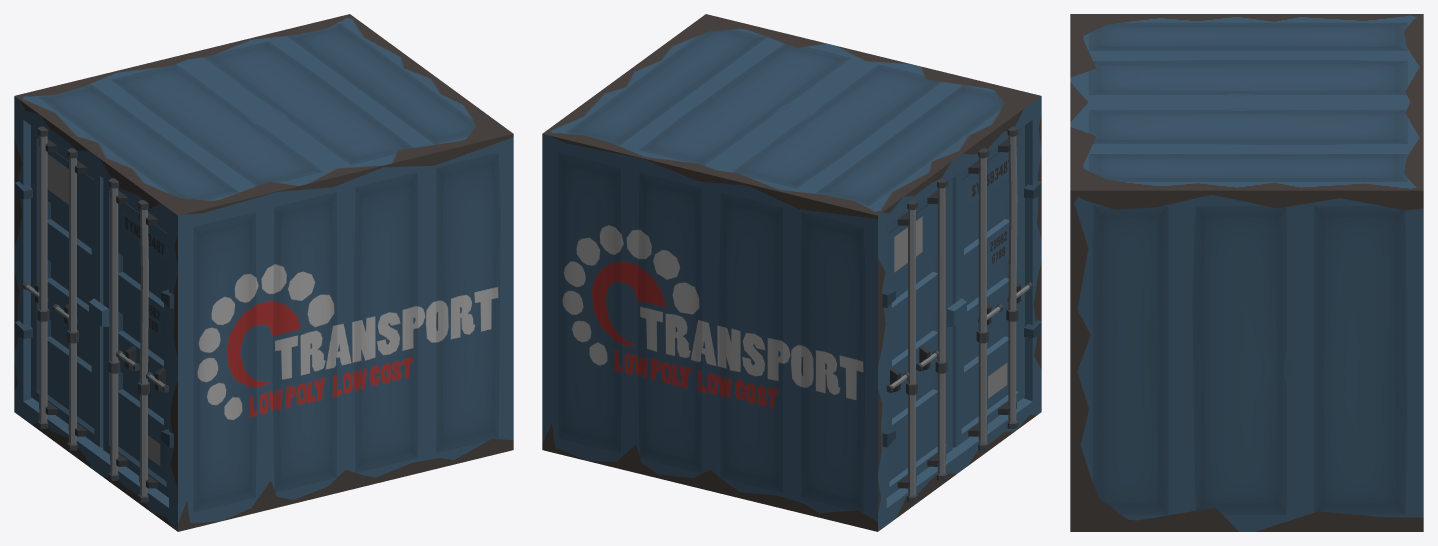
The model's file is SM_Prop_Container_Small_Doors_01.fbx.
The picture shows the model from 3 angles, left to right: view 1: azimuth 30°, elevation 25°; view 2: azimuth 150°, elevation 25°; view 3: azimuth 270°, elevation 25°; orthographic projection. The views are drawn at different scales.
Visible parts, largest first — view 1: SM_Prop_Container_Small_Doors_01; view 2: SM_Prop_Container_Small_Doors_01; view 3: SM_Prop_Container_Small_Doors_01.
Part boxes in pixels (x1,y1,x2,y2): SM_Prop_Container_Small_Doors_01: [14, 14, 513, 531]; SM_Prop_Container_Small_Doors_01: [542, 14, 1041, 531]; SM_Prop_Container_Small_Doors_01: [1070, 14, 1423, 531].
Size of the model in its own units: 294 by 259 by 243.
